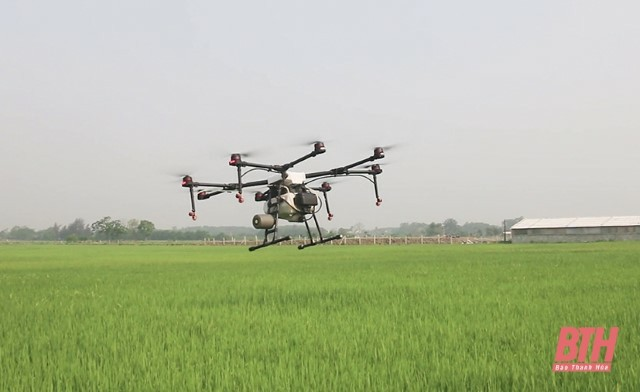maybay_khongnguoilai: (168, 137, 394, 246)
